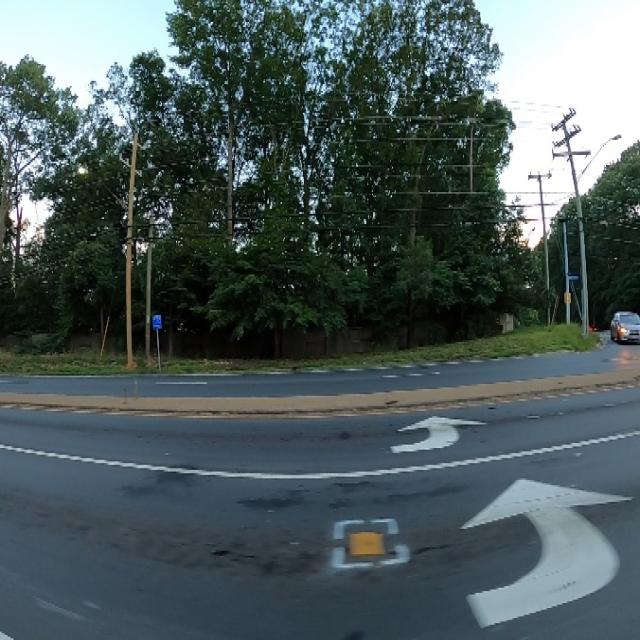car: (608, 300, 640, 359)
